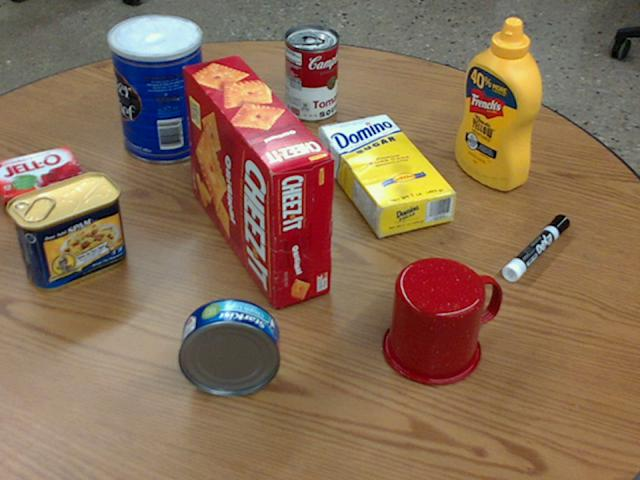cracker_box: (182, 56, 334, 307)
gelatin_box: (0, 145, 86, 214)
large_marker: (503, 214, 570, 281)
master_chef_can: (107, 15, 206, 163)
mug: (383, 256, 501, 384)
mustard_bottle: (456, 18, 542, 189)
potted_meat_can: (7, 171, 124, 289)
sugar_box: (318, 114, 455, 236)
tomato_soup_can: (284, 24, 339, 120)
tuna_fish_can: (179, 299, 281, 395)
